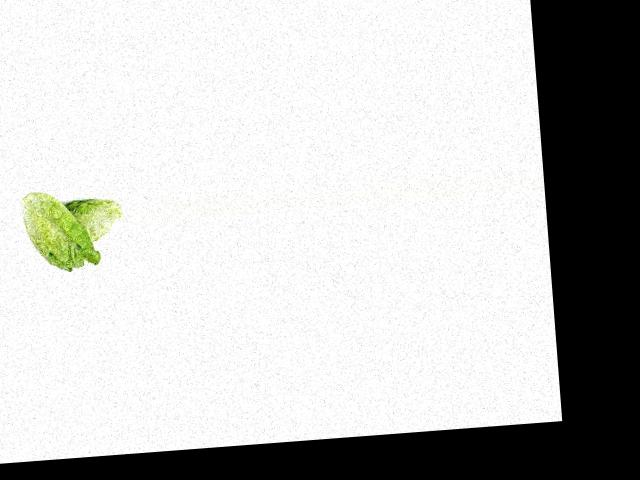lettuce: (63, 192, 126, 246)
